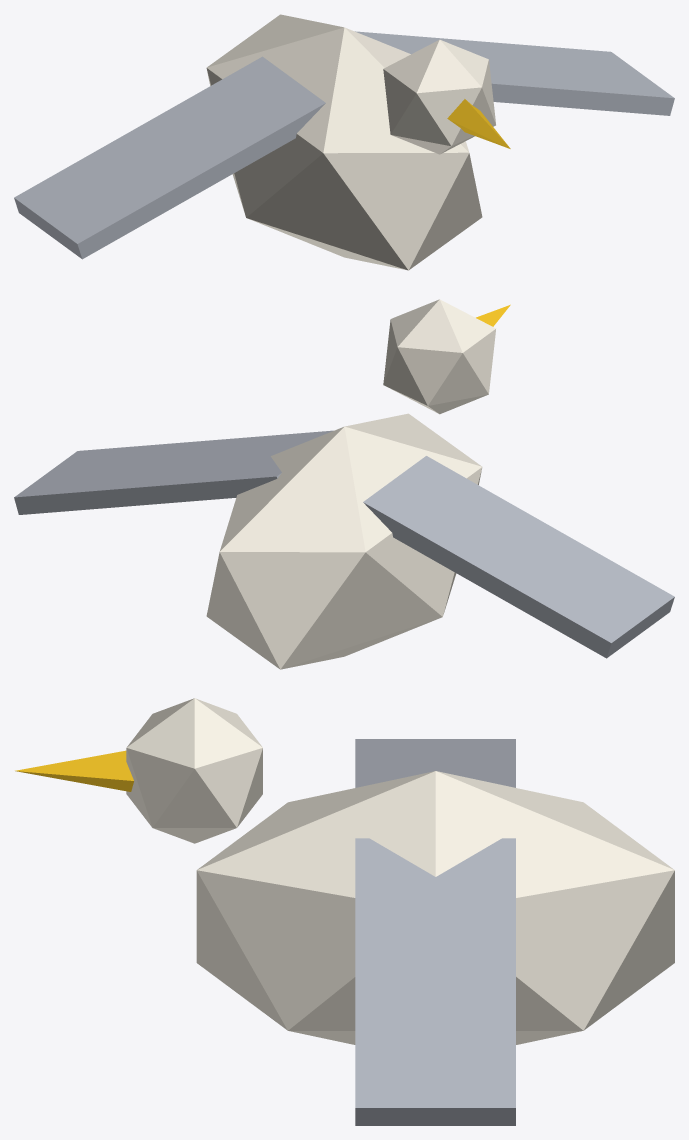
File: seagull.glb
3 views of the same model, one above another, from view 1: azimuth 30°, elevation 25°; view 2: azimuth 150°, elevation 25°; view 3: azimuth 270°, elevation 25° (orthographic). The views are drawn at different scales.
Parts seen in each view (by area): view 1: seagull; view 2: seagull; view 3: seagull.
Part boxes in pixels (left/top/right/bottom): seagull: left=14, top=14, right=674, bottom=270; seagull: left=14, top=299, right=674, bottom=669; seagull: left=15, top=698, right=674, bottom=1125.
Size of the model in its own units: 1.09 by 0.5 by 0.8227.
